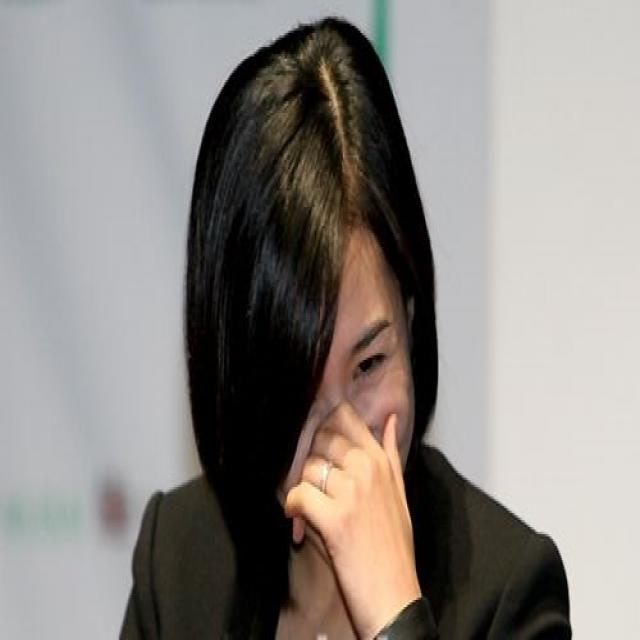nomask: (268, 227, 410, 554)
